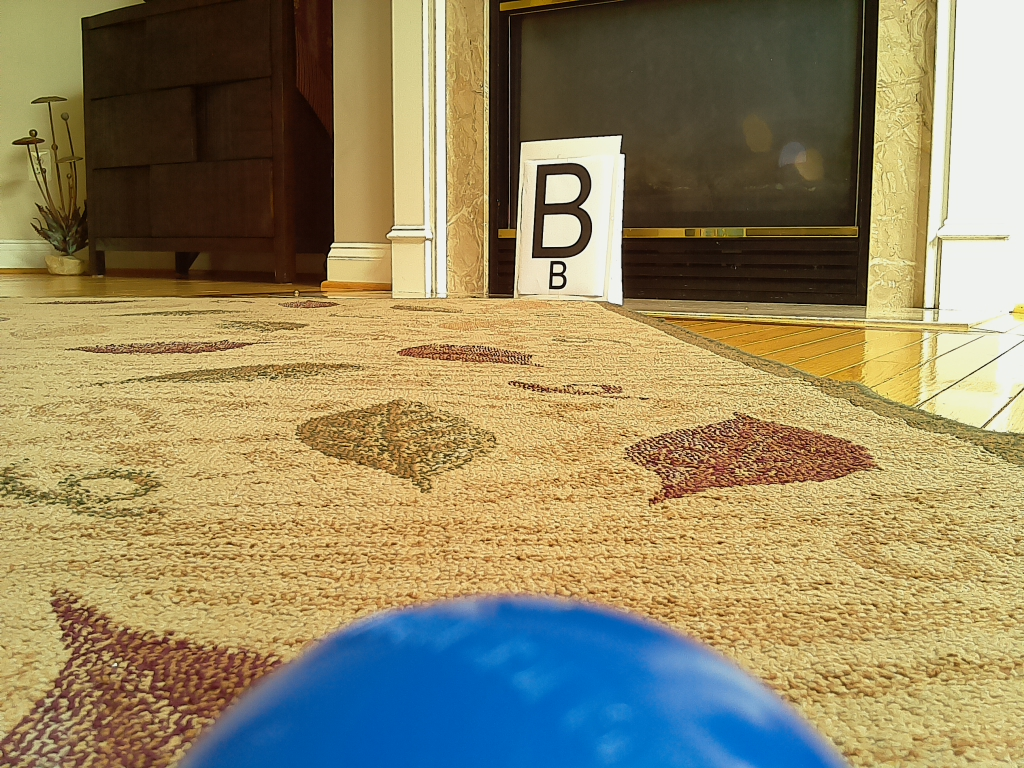letter: (536, 164, 593, 257)
